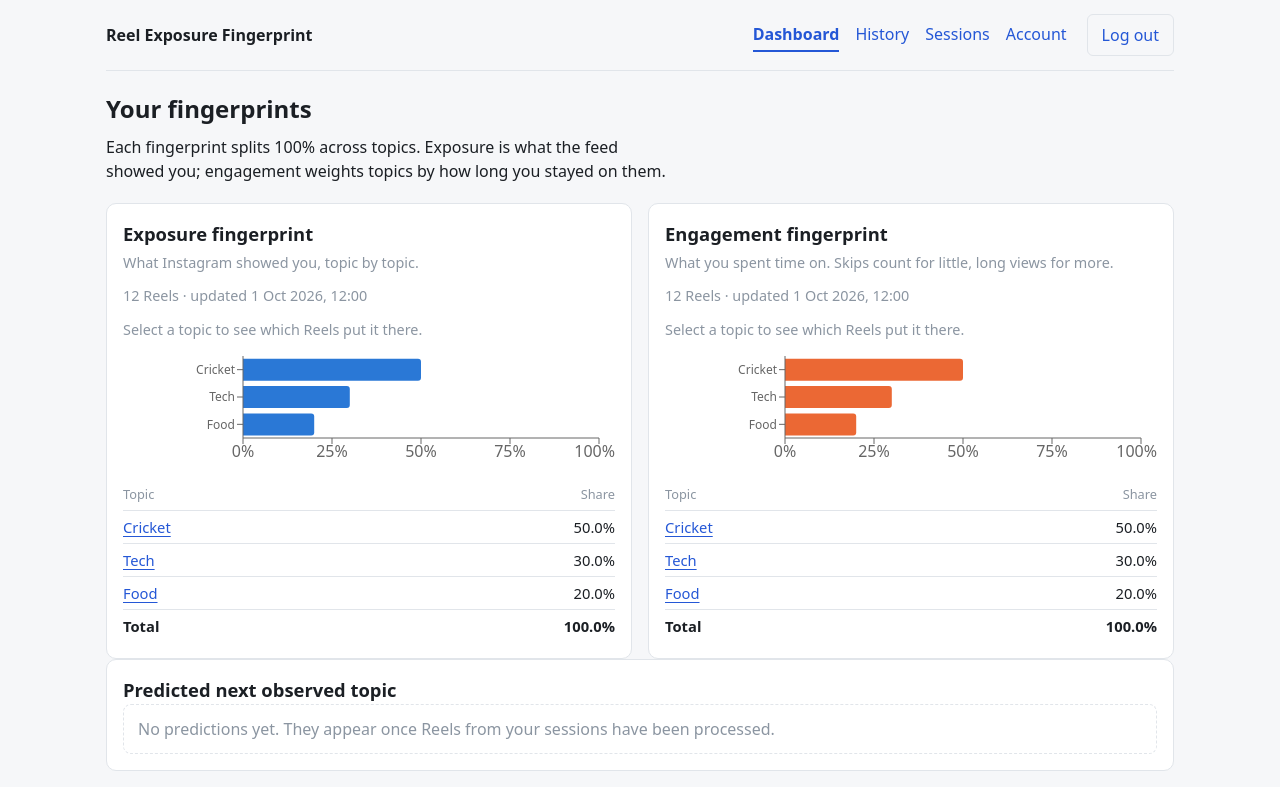
topic evidence › opens from a topic row and explains the topic, with one entry per Reel
The width and height of the screenshot is (1280, 787).
Click the button with aria-label "Why Cricket?" at x=147, y=527, box [123,516,171,538]
(page scrolled)
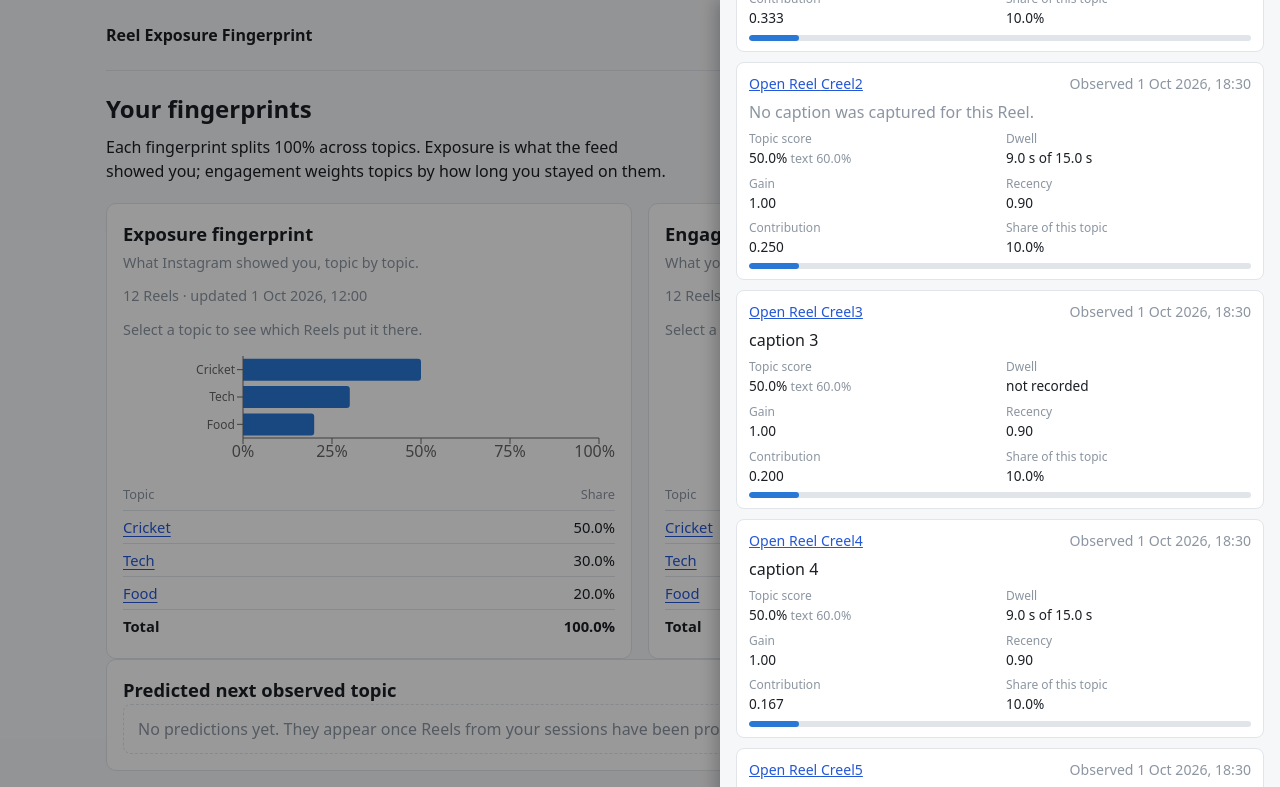
Expected: the 2nd list item shows "No caption was captured", [749,101,1034,123]
Expected: the 3rd list item shows "not recorded", [1006,376,1089,395]
